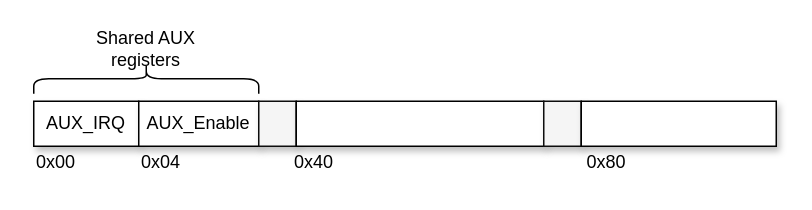
Some shapes in this 812 by 210 pixel diagram are drawn without their labels. Each missing label, with the centre of its shape:
"Mini_UART Registers" belongs at (421,125).
"SPI_0 & SPI_1 Registers" belongs at (679,125).
